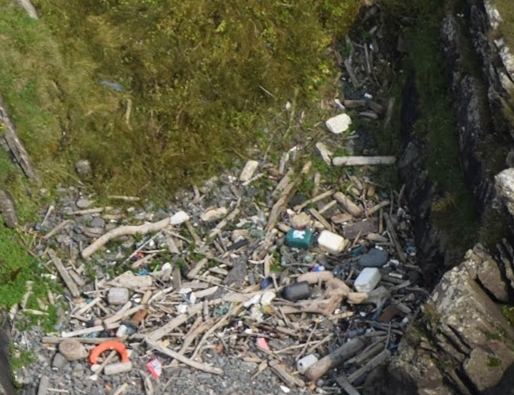together_barrel: (68, 227, 395, 375)
white_in_green: (310, 97, 368, 149)
wood_together: (116, 205, 285, 367)
